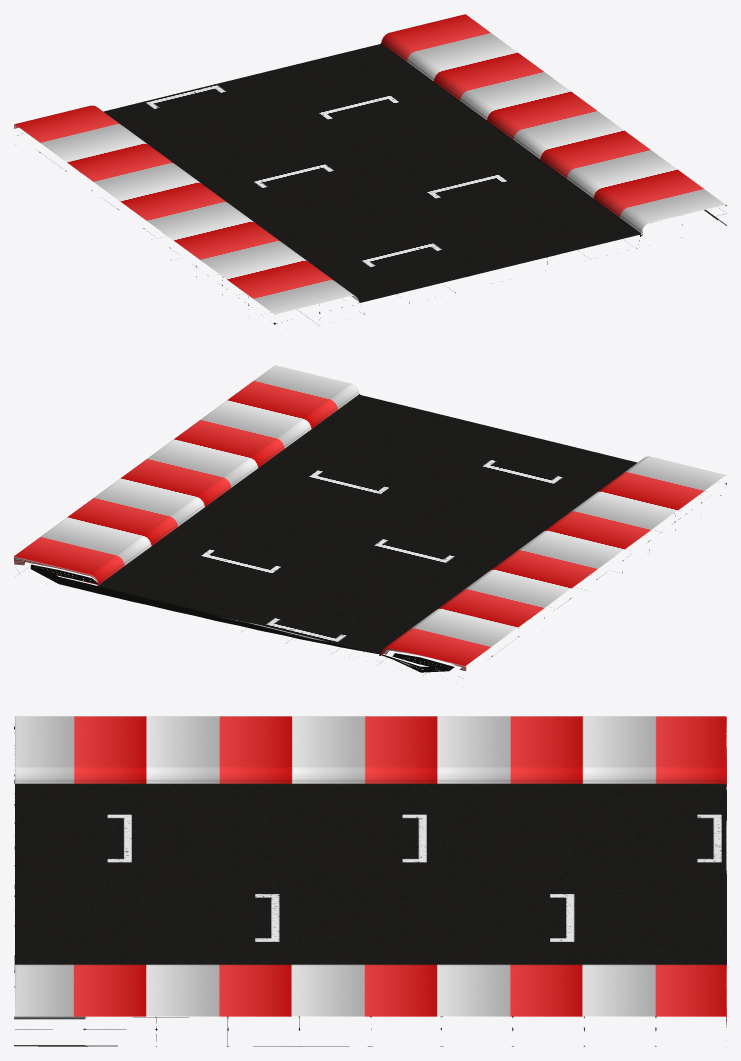
The model's file is Track.fbx.
The picture shows the model from 3 angles, top to bottom: view 1: azimuth 30°, elevation 25°; view 2: azimuth 150°, elevation 25°; view 3: azimuth 270°, elevation 25°; orthographic projection. The views are drawn at different scales.
Parts seen in each view (by area): view 1: Track_high; view 2: Track_high; view 3: Track_high.
Boxes of the visible parts, bbox=[...] form: Track_high: bbox=[14, 14, 726, 325]; Track_high: bbox=[14, 365, 726, 678]; Track_high: bbox=[14, 716, 726, 1046].
Size of the model in its own units: 2000 by 93.63 by 2000.
